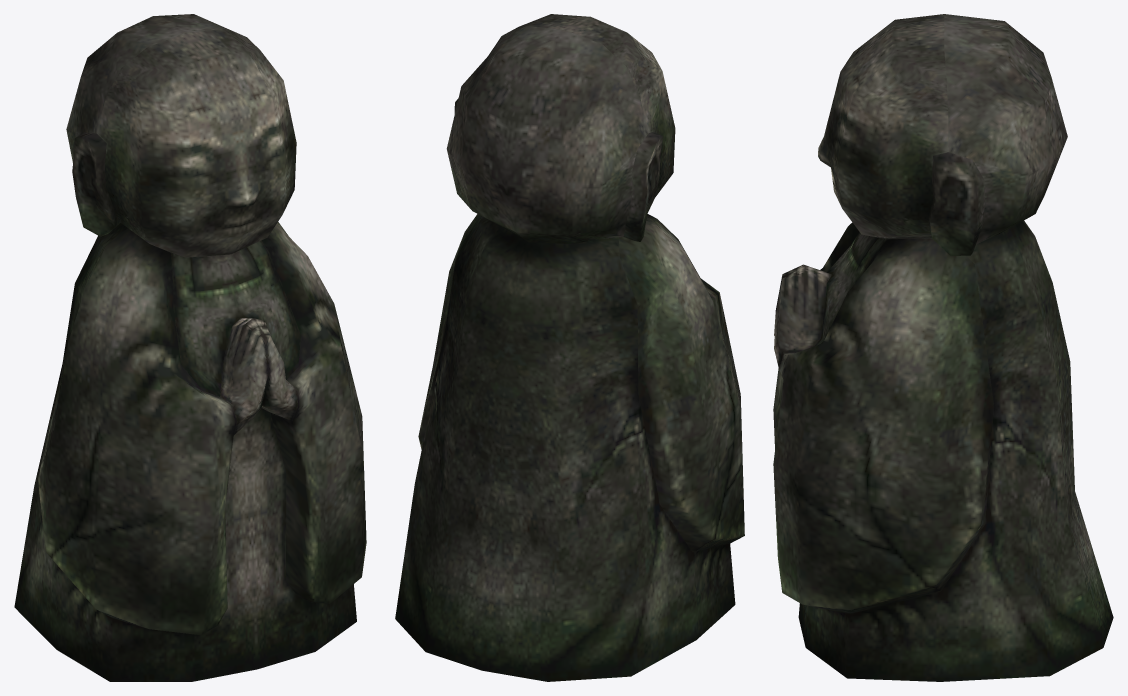
Rendered from StatueD.FBX.
3 views of the same model, side by side, from view 1: azimuth 30°, elevation 25°; view 2: azimuth 150°, elevation 25°; view 3: azimuth 270°, elevation 25° (orthographic).
Visible parts, largest first — view 1: StatueD_ms1; view 2: StatueD_ms1; view 3: StatueD_ms1.
Boxes of the visible parts, x1,y1,x2,y2 form: StatueD_ms1: (14,14,366,681); StatueD_ms1: (395,14,744,681); StatueD_ms1: (773,14,1113,681).
Size of the model in its own units: 54.97 by 107 by 55.78.
